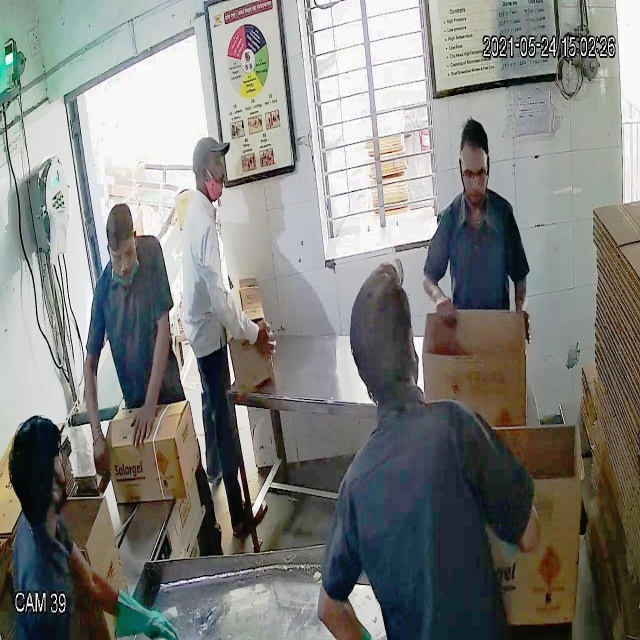Gafas: (455, 161, 493, 195), (108, 237, 140, 271)
Sin_gafas: (192, 149, 224, 180)
